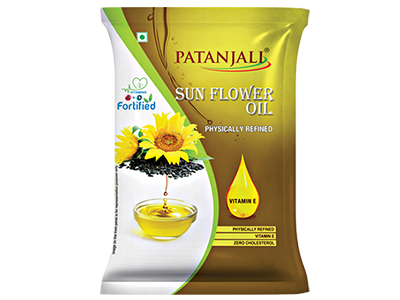VEG: (136, 32, 148, 42)
